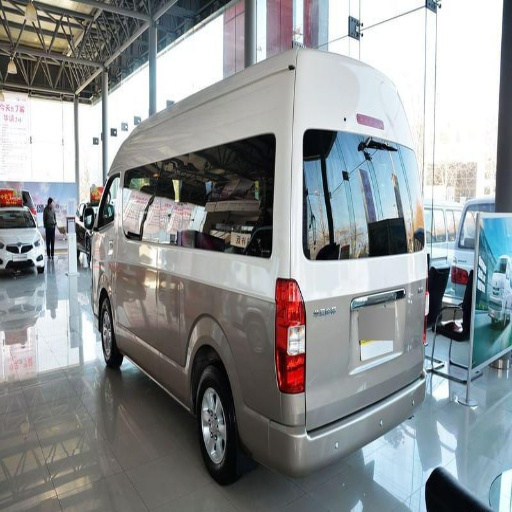back_bumper: (251, 389, 418, 490)
back_left_light: (274, 281, 305, 391)
trunk: (146, 251, 430, 427), (247, 78, 290, 136)
